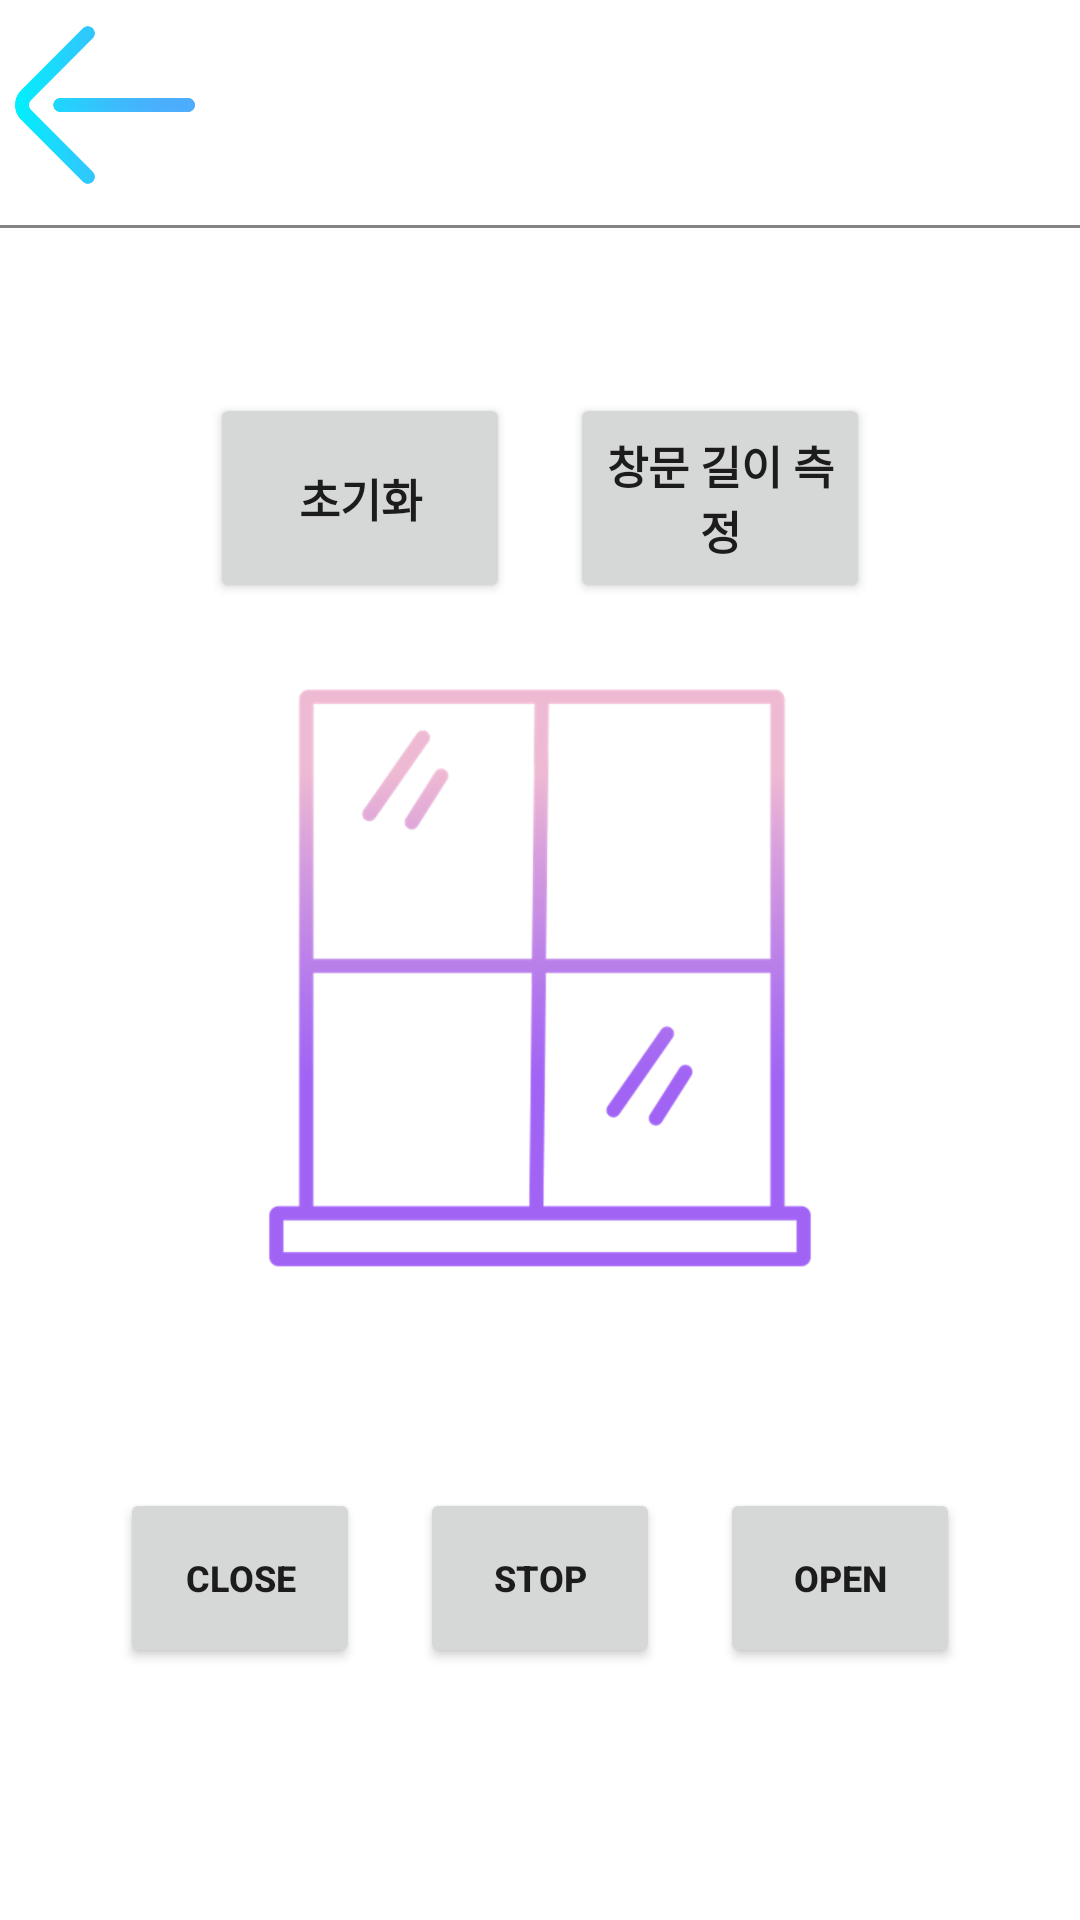

Named icons in this screenshot (1080×1920) and their bounding boxes, (x1, y1, x2, y2):
left arrow: (15, 26, 195, 184)
